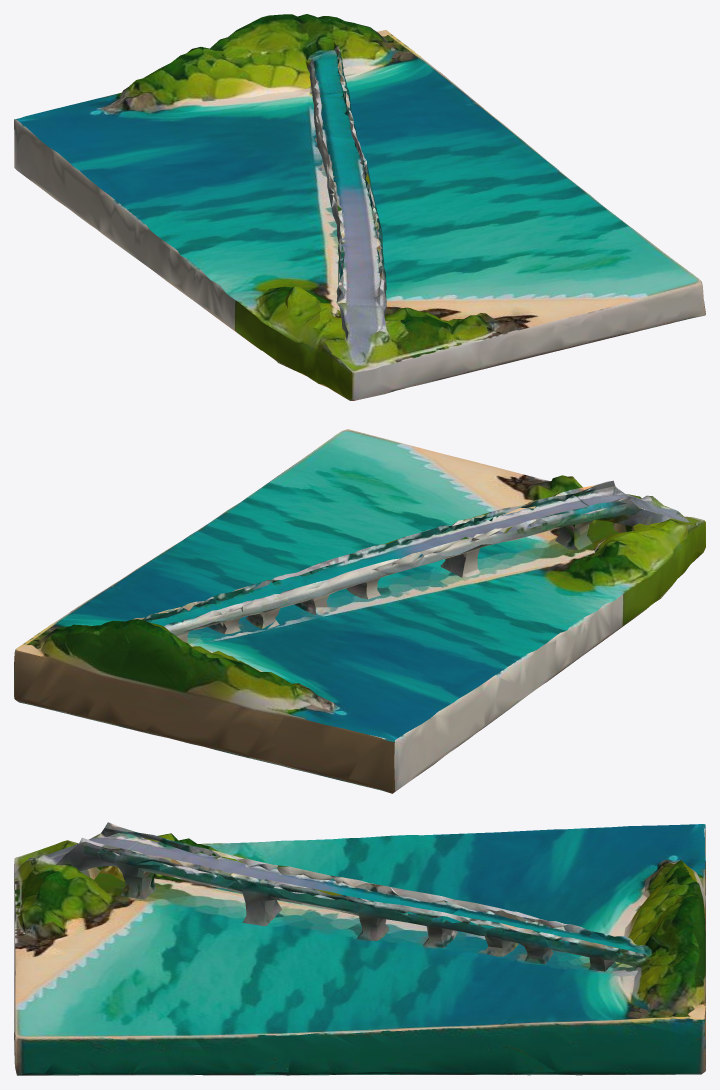
File: kouri-bridge.glb
3 views of the same model, one above another, from view 1: azimuth 30°, elevation 25°; view 2: azimuth 150°, elevation 25°; view 3: azimuth 270°, elevation 25° (orthographic). The views are drawn at different scales.
Visible parts, largest first — view 1: logan-textured.obj; view 2: logan-textured.obj; view 3: logan-textured.obj.
Part boxes in pixels (box(x1,y1,x2,y2)): logan-textured.obj: box(14, 14, 705, 400); logan-textured.obj: box(14, 429, 705, 793); logan-textured.obj: box(14, 822, 705, 1075).
Size of the model in its own units: 0.6733 by 0.1736 by 1.
Materials: 1 (1 with a texture image).
